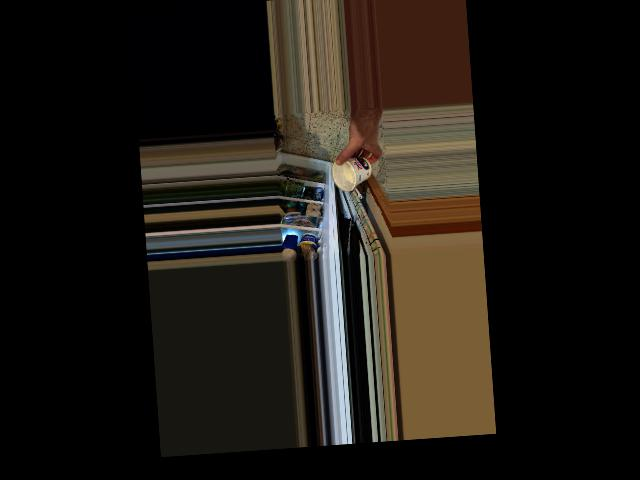cotage: (333, 156, 371, 196)
